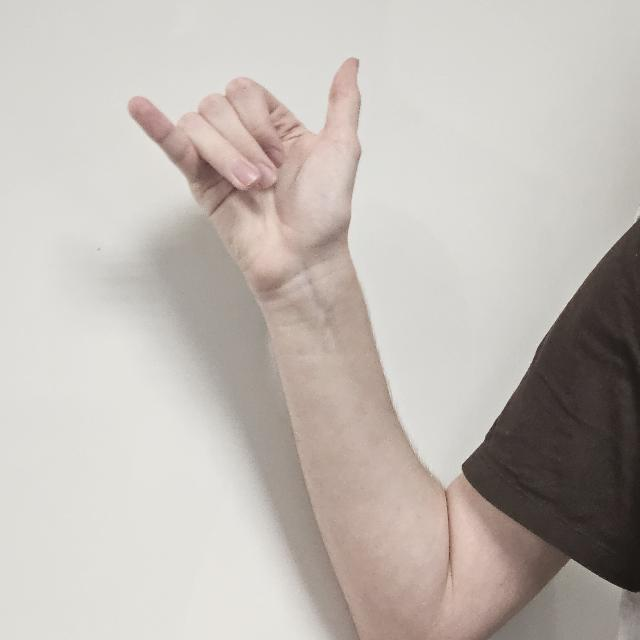Direita: (124, 58, 373, 278)
